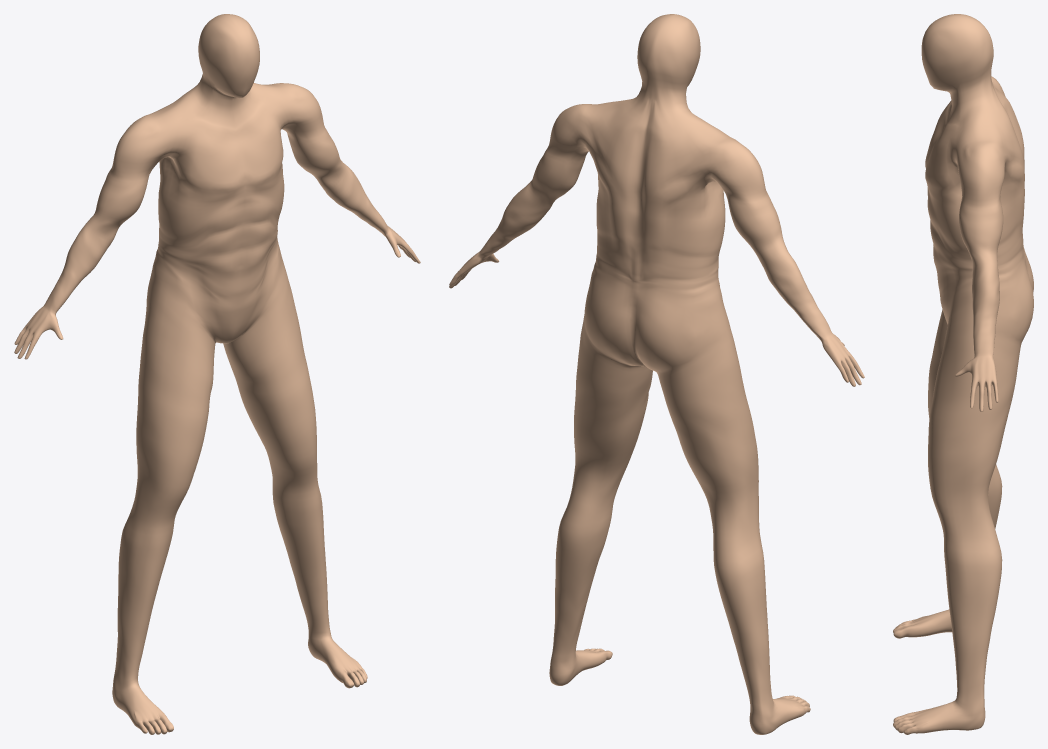
File: avatar_body.glb
3 views of the same model, side by side, from view 1: azimuth 30°, elevation 25°; view 2: azimuth 150°, elevation 25°; view 3: azimuth 270°, elevation 25° (orthographic). The views are drawn at different scales.
Visible parts, largest first — view 1: body; view 2: body; view 3: body.
Part boxes in pixels (x1=…): body: x1=14, y1=14, x2=420, y2=734; body: x1=449, y1=14, x2=864, y2=734; body: x1=893, y1=14, x2=1033, y2=734.
Bounding box in the file's own units: 1.09 × 1.75 × 0.3359.
